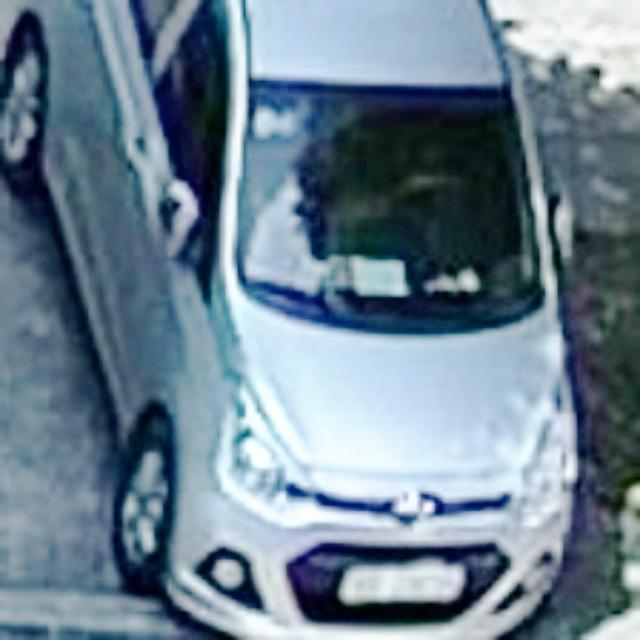Car: (0, 0, 583, 639)
